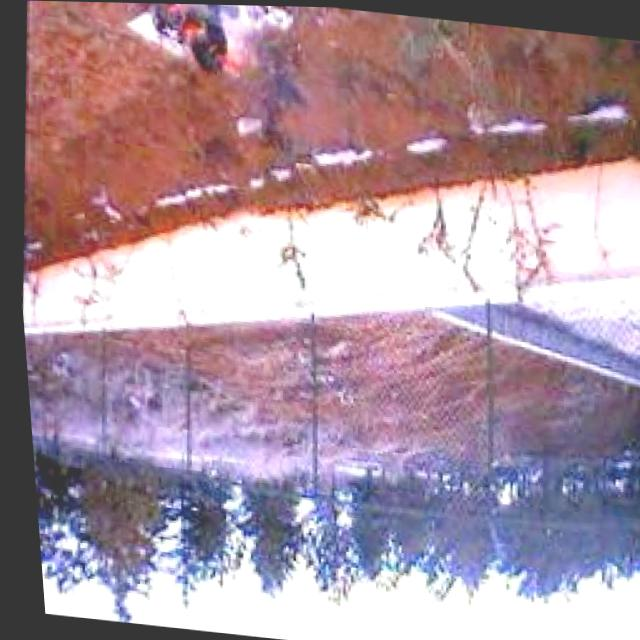helmet: (151, 3, 263, 88)
